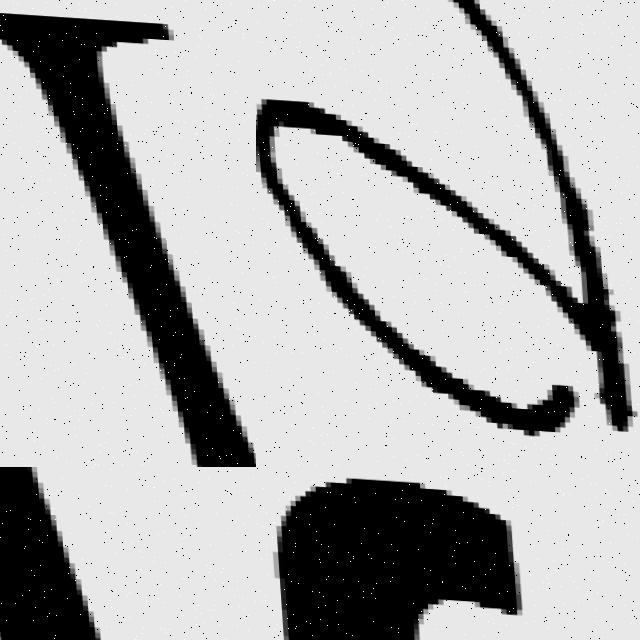1: (0, 1, 256, 467)
F: (0, 467, 188, 640)
G: (256, 0, 636, 446)
T: (256, 467, 544, 640)
